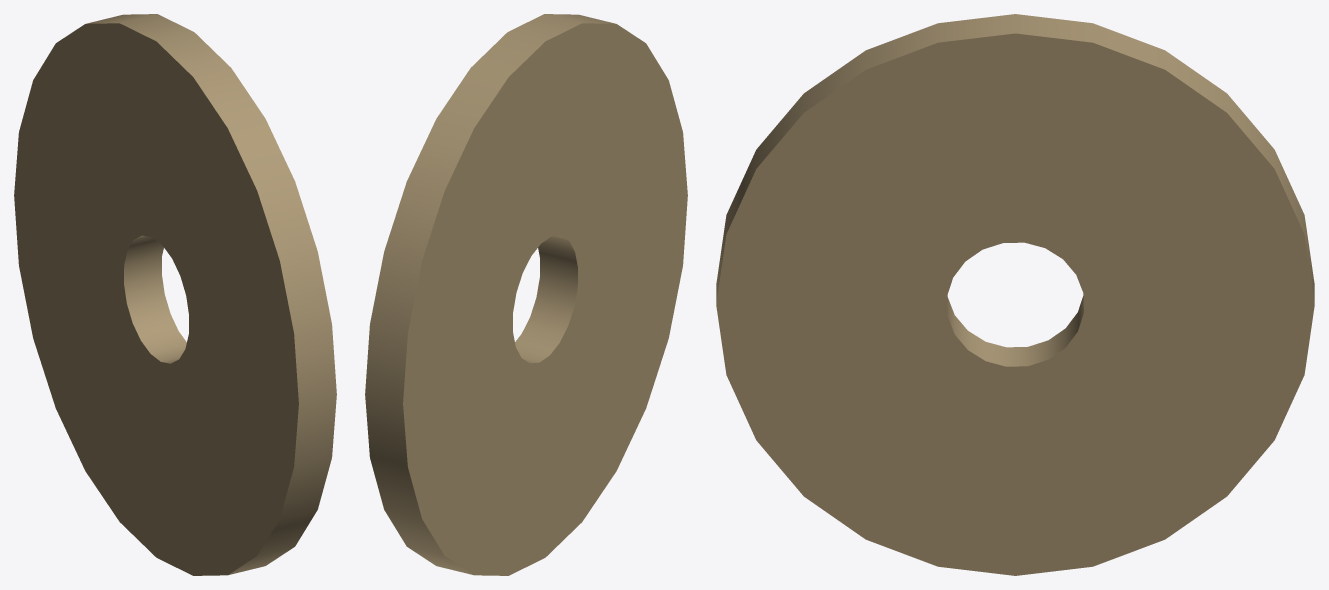
File: original-7.obj
3 views of the same model, side by side, from view 1: azimuth 30°, elevation 25°; view 2: azimuth 150°, elevation 25°; view 3: azimuth 270°, elevation 25° (orthographic). The views are drawn at different scales.
Visible parts, largest first — view 1: Group7/mesh45/mesh45-geometry#mesh45-geometry; view 2: Group7/mesh45/mesh45-geometry#mesh45-geometry; view 3: Group7/mesh45/mesh45-geometry#mesh45-geometry.
Part boxes in pixels (bbox=[...]): Group7/mesh45/mesh45-geometry#mesh45-geometry: bbox=[14, 14, 336, 575]; Group7/mesh45/mesh45-geometry#mesh45-geometry: bbox=[365, 14, 687, 575]; Group7/mesh45/mesh45-geometry#mesh45-geometry: bbox=[716, 14, 1314, 575].
Size of the model in its own units: 0.00664 by 0.0863 by 0.0863.
